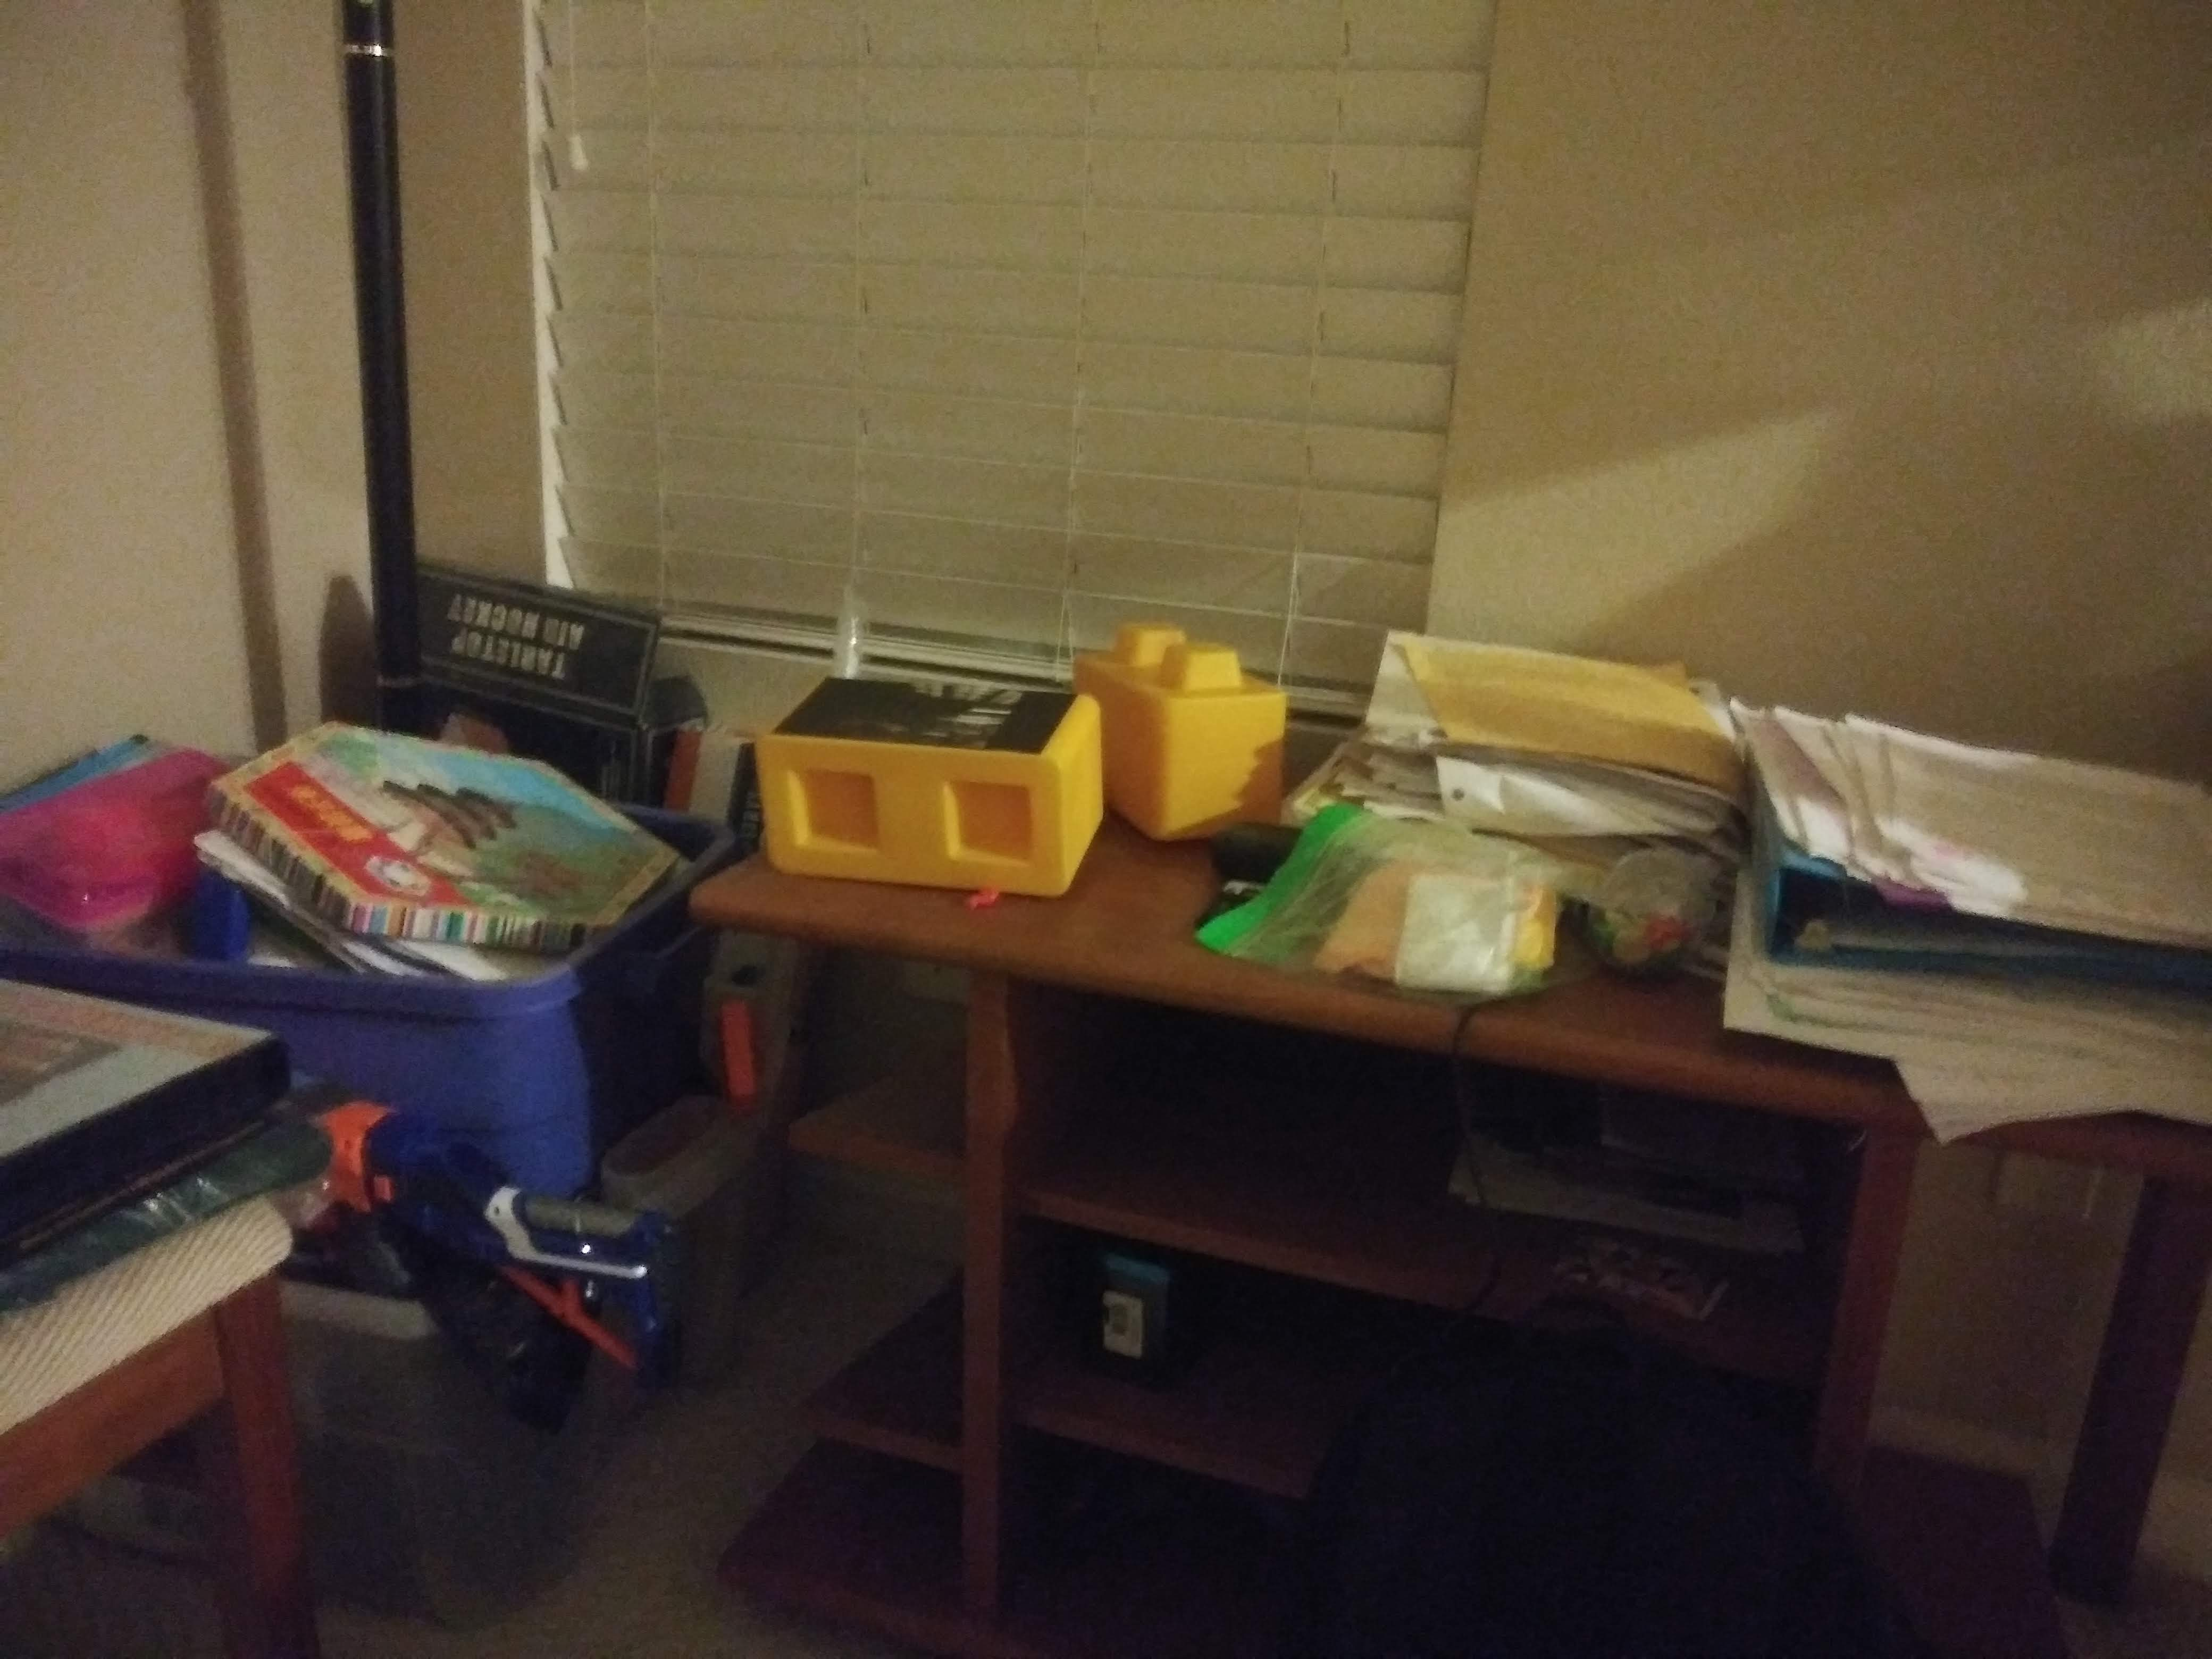skystone: (775, 676, 1071, 882)
stone: (1115, 640, 1277, 828)
